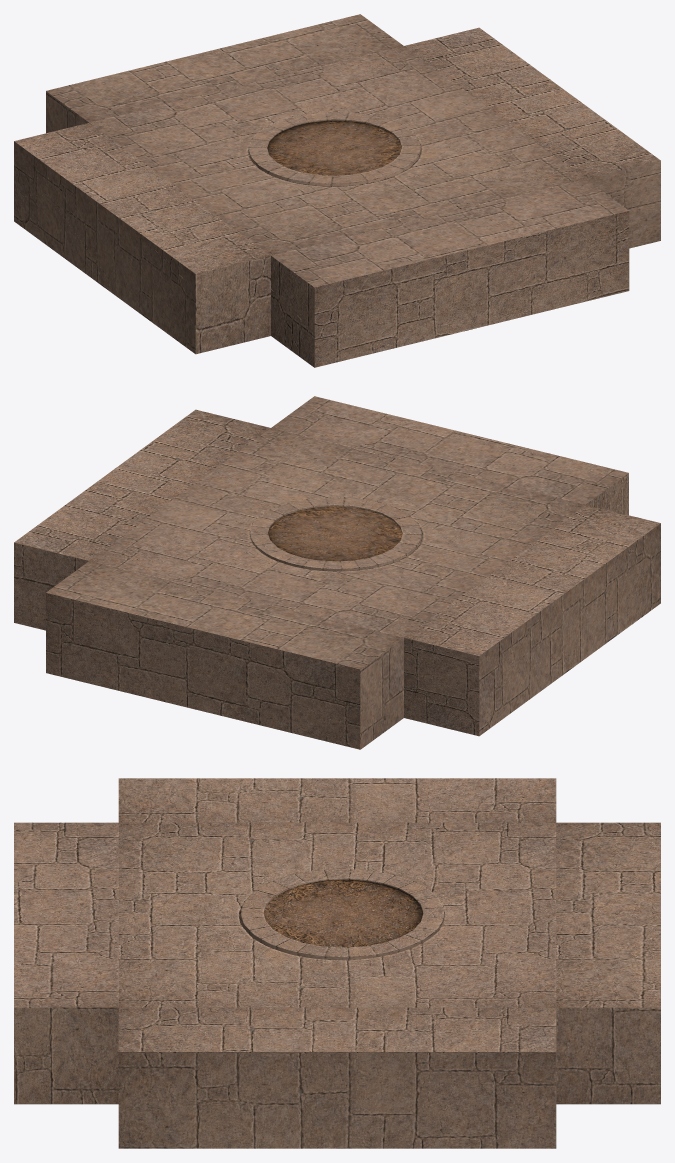
File: Rooftop_Base_drop.fbx
3 renders of one model, top to bottom at view 1: azimuth 30°, elevation 25°; view 2: azimuth 150°, elevation 25°; view 3: azimuth 270°, elevation 25°, orthographic. The views are drawn at different scales.
Visible parts, largest first — view 1: Rooftop_Base_Drop.008, Rooftop_Base_Drop.012, Rooftop_Base_Drop.004, Rooftop_Base_Drop.007, Rooftop_Base_Drop.002, Rooftop_Base_Drop.009, Rooftop_Base_Drop.003, Rooftop_Base_Drop.005, Rooftop_Base_Drop.010, Rooftop_Base_Drop.011, Rooftop_Base_Drop.001; view 2: Rooftop_Base_Drop.012, Rooftop_Base_Drop.008, Rooftop_Base_Drop.005, Rooftop_Base_Drop.007, Rooftop_Base_Drop.004, Rooftop_Base_Drop.002, Rooftop_Base_Drop.010, Rooftop_Base_Drop.009, Rooftop_Base_Drop.001, Rooftop_Base_Drop.000, Rooftop_Base_Drop.011; view 3: Rooftop_Base_Drop.008, Rooftop_Base_Drop.012, Rooftop_Base_Drop.002, Rooftop_Base_Drop.005, Rooftop_Base_Drop.004, Rooftop_Base_Drop.011, Rooftop_Base_Drop.007, Rooftop_Base_Drop.003, Rooftop_Base_Drop.010.
Part boxes in pixels (x1,y1,x2,y2): Rooftop_Base_Drop.008: (155,159,524,332); Rooftop_Base_Drop.012: (14,51,319,196); Rooftop_Base_Drop.004: (334,137,660,228); Rooftop_Base_Drop.007: (48,143,337,275); Rooftop_Base_Drop.002: (371,54,611,140); Rooftop_Base_Drop.009: (106,250,448,367); Rooftop_Base_Drop.003: (448,216,629,334); Rooftop_Base_Drop.005: (209,14,515,63); Rooftop_Base_Drop.010: (291,63,385,149); Rooftop_Base_Drop.011: (563,125,660,248); Rooftop_Base_Drop.001: (21,195,105,288); Rooftop_Base_Drop.012: (182,543,513,748); Rooftop_Base_Drop.008: (355,421,660,558); Rooftop_Base_Drop.005: (14,516,221,715); Rooftop_Base_Drop.007: (330,528,620,659); Rooftop_Base_Drop.004: (189,396,409,534); Rooftop_Base_Drop.002: (51,445,290,564); Rooftop_Base_Drop.010: (140,521,335,592); Rooftop_Base_Drop.009: (571,540,660,668); Rooftop_Base_Drop.001: (486,656,571,729); Rooftop_Base_Drop.000: (351,696,488,749); Rooftop_Base_Drop.011: (147,414,196,457); Rooftop_Base_Drop.008: (14,778,315,946); Rooftop_Base_Drop.012: (367,778,660,946); Rooftop_Base_Drop.002: (236,943,533,1138); Rooftop_Base_Drop.005: (432,918,660,1148); Rooftop_Base_Drop.004: (14,910,343,1055); Rooftop_Base_Drop.011: (118,1022,431,1148); Rooftop_Base_Drop.007: (216,778,472,914); Rooftop_Base_Drop.003: (14,945,118,1104); Rooftop_Base_Drop.010: (335,912,579,983).
Size of the model in its own units: 1895 by 328 by 1895.
